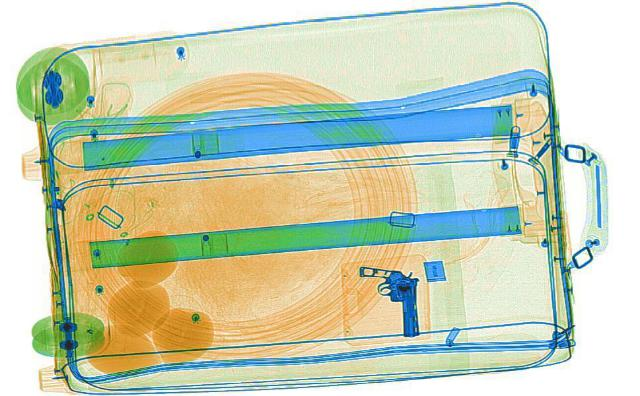Gun: (357, 264, 417, 335)
